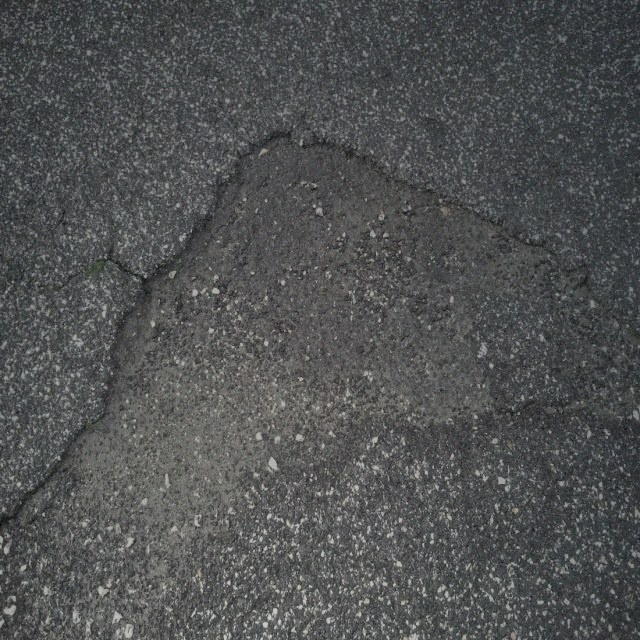pothole: (102, 107, 572, 473)
